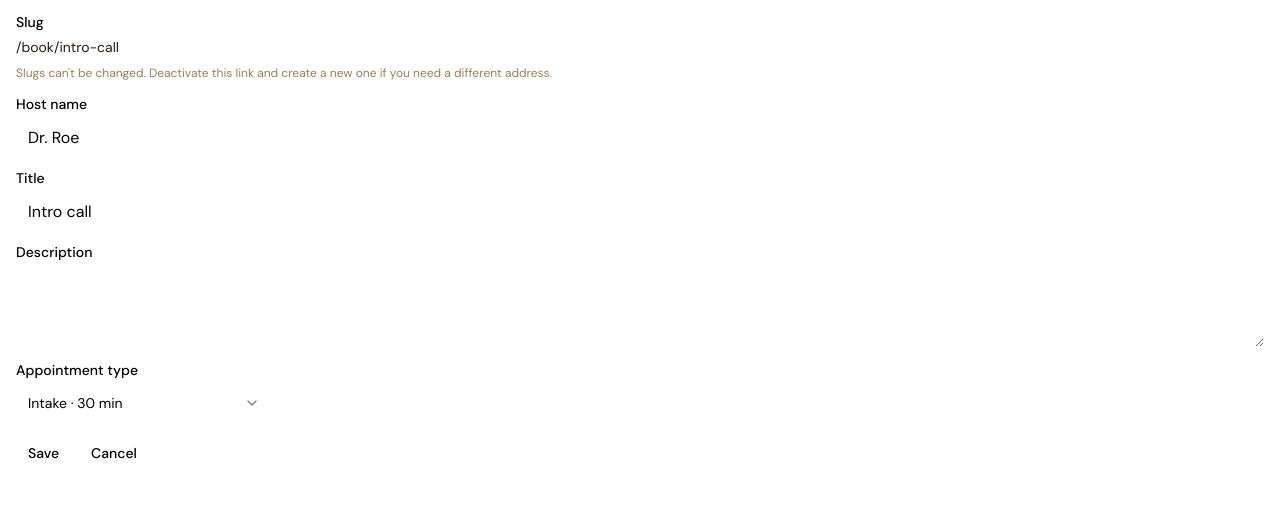
Scenario: BookingLinkEditForm › renders a server error from the mutation in a role=alert element
The width and height of the screenshot is (1280, 512).
Replace the text in the field labelled "Title" with "Consultation" at [640, 211], box [16, 193, 1264, 229]
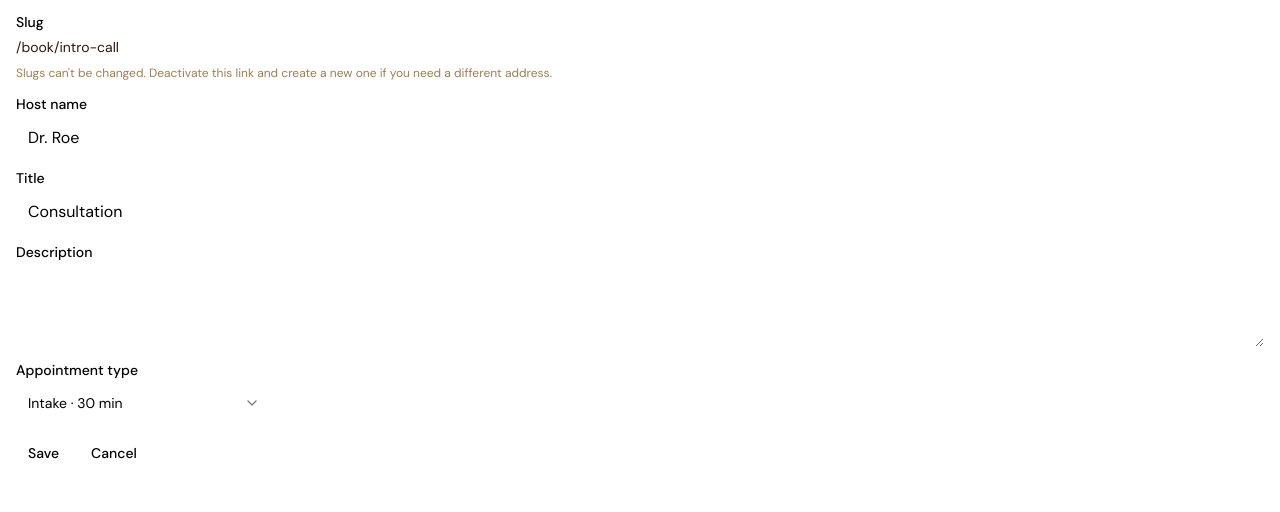
Click the button "Save" at [44, 453], box [16, 437, 71, 469]
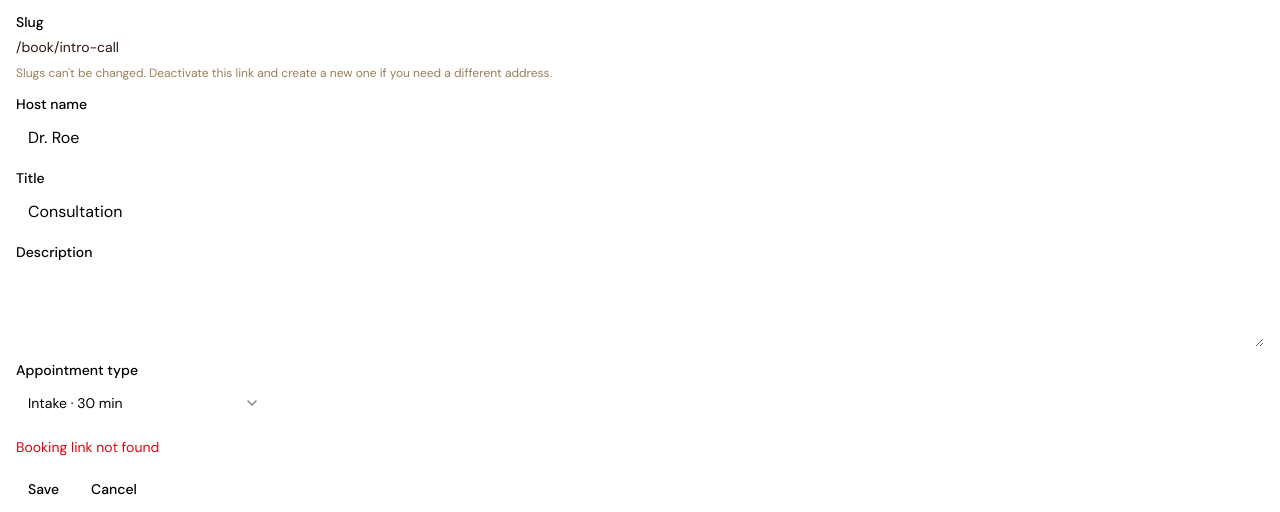
Expected: the message reads "Booking link not found", [16, 438, 159, 456]
